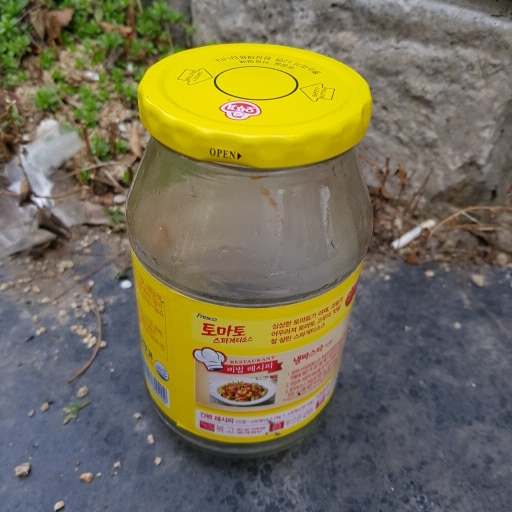Glass_5: (125, 39, 378, 454)
